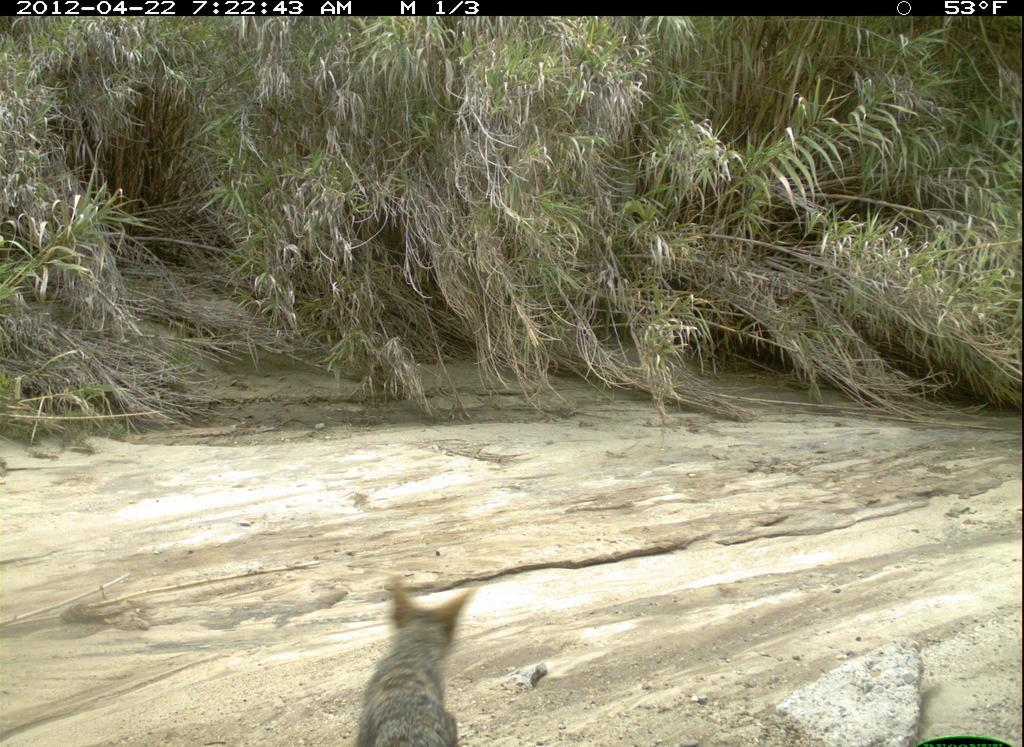coyote: (350, 574, 489, 745)
